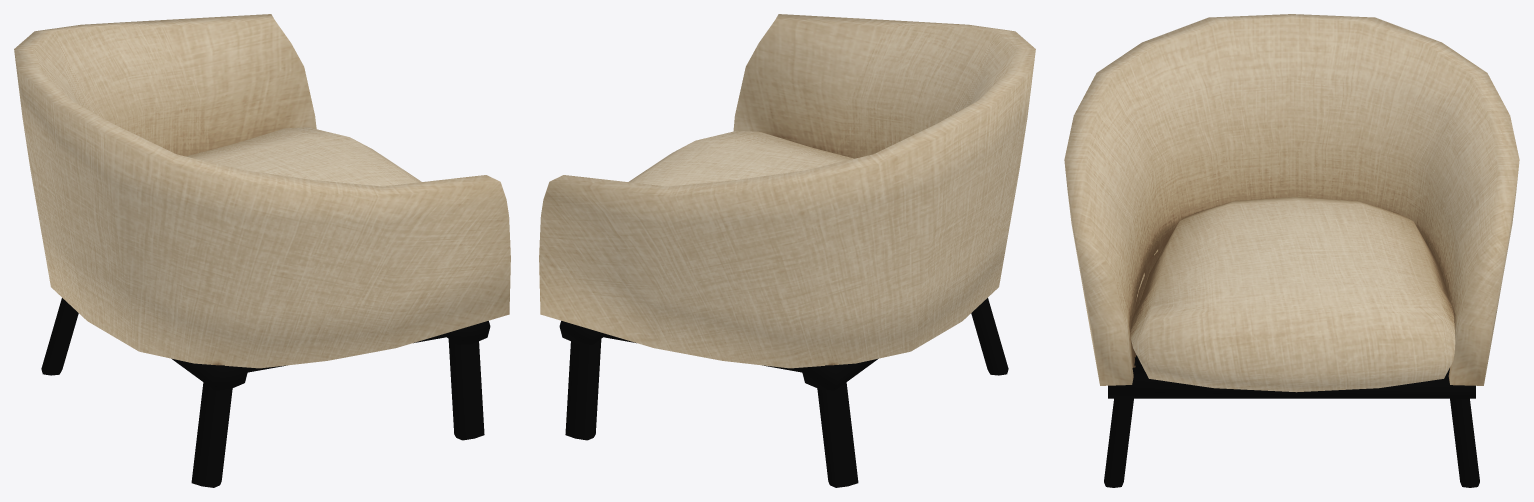
The model's file is chairyellow.glb.
The picture shows the model from 3 angles, left to right: view 1: azimuth 30°, elevation 25°; view 2: azimuth 150°, elevation 25°; view 3: azimuth 270°, elevation 25°; orthographic projection. The views are drawn at different scales.
Parts seen in each view (by area): view 1: Cube.008_11; view 2: Cube.008_11; view 3: Cube.008_11.
Boxes of the visible parts, bbox=[...] form: Cube.008_11: bbox=[14, 14, 510, 487]; Cube.008_11: bbox=[539, 14, 1035, 487]; Cube.008_11: bbox=[1064, 14, 1519, 487].
Bounding box in the file's own units: 0.6196 × 0.535 × 0.685.
1 material, 1 textured.
